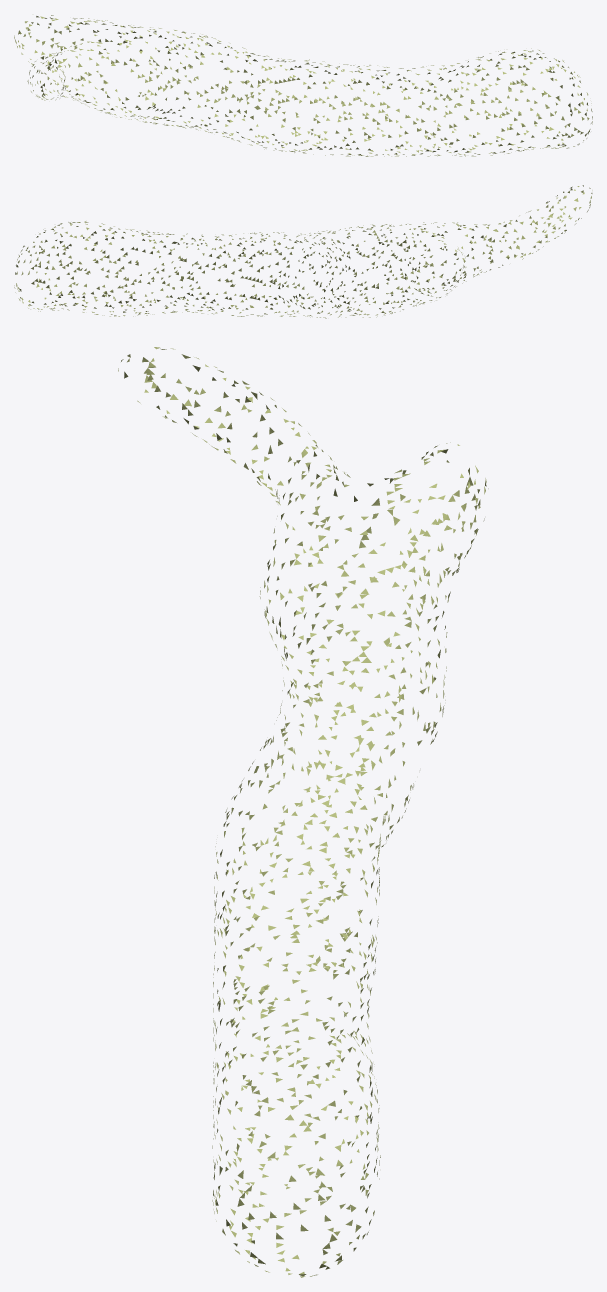
The model's file is morph_010.glb.
3 renders of one model, top to bottom at view 1: azimuth 30°, elevation 25°; view 2: azimuth 150°, elevation 25°; view 3: azimuth 270°, elevation 25°, orthographic. The views are drawn at different scales.
Bounding box in the file's own units: 108 × 42.52 × 32.61.
